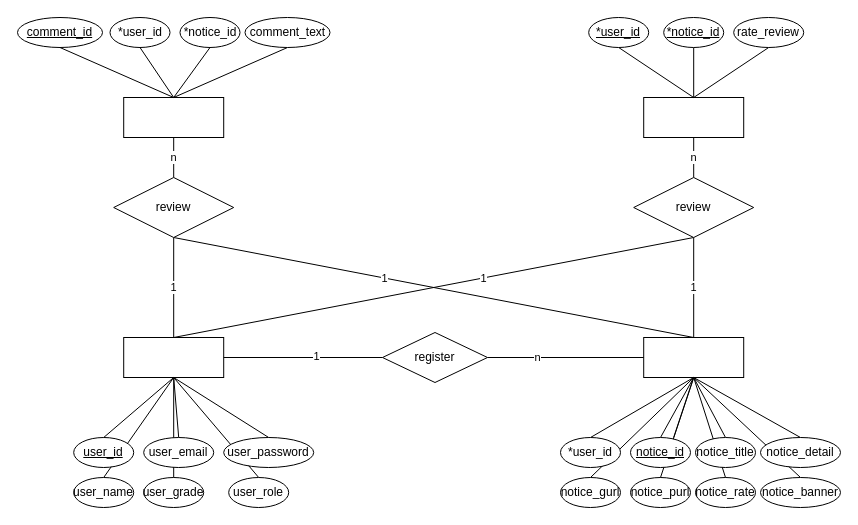
Some shapes in this 858 by 525 pixel diagram are drawn without their labels. Here are the shapes that lost their labels. From the top down, the centre of each, then its label:
At (x=173, y=117): "comment".
At (x=693, y=117): "rate".
At (x=173, y=357): "user".
At (x=693, y=357): "notice".
